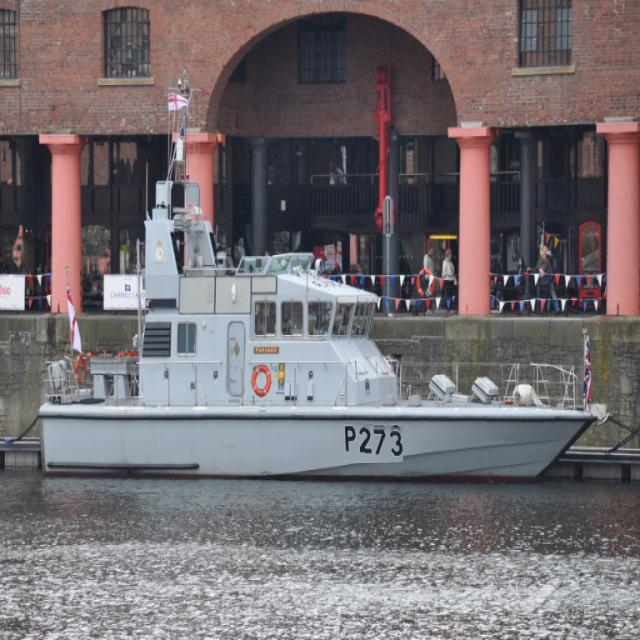OCR: (340, 421, 403, 463)
